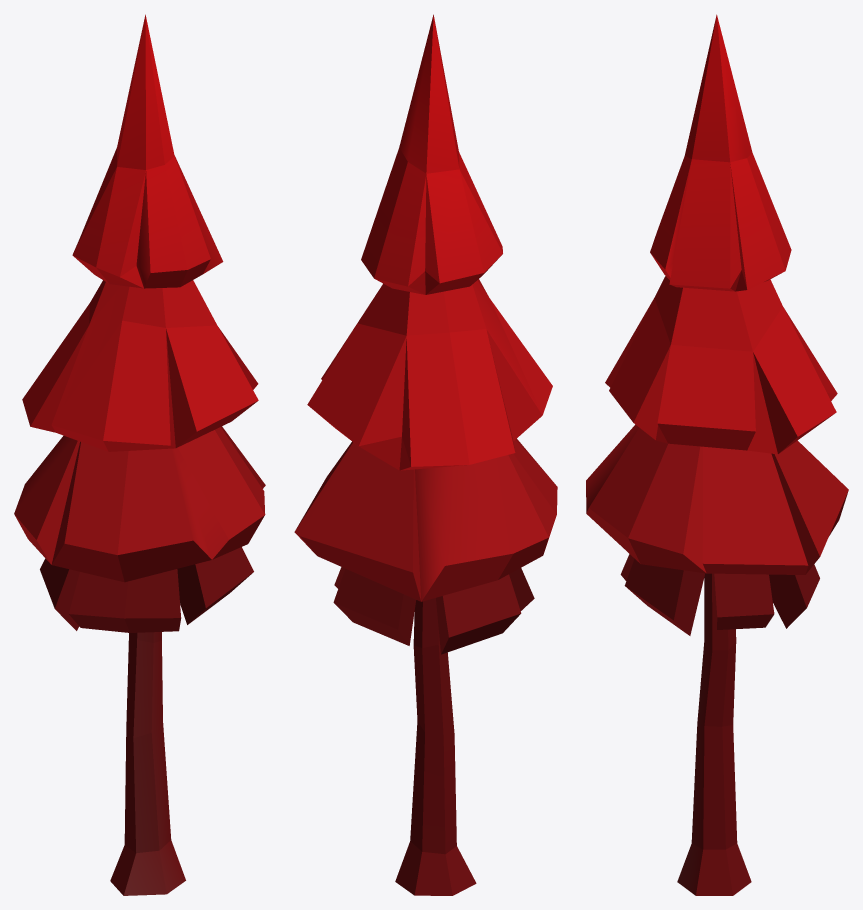
Rendered from tree_forest2.fbx.
3 renders of one model, left to right at view 1: azimuth 30°, elevation 25°; view 2: azimuth 150°, elevation 25°; view 3: azimuth 270°, elevation 25°, orthographic.
Parts seen in each view (by area): view 1: tree_forest2; view 2: tree_forest2; view 3: tree_forest2.
Boxes of the visible parts, x1,y1,x2,y2 form: tree_forest2: (14, 14, 265, 895); tree_forest2: (294, 14, 557, 895); tree_forest2: (586, 14, 848, 895).
Bounding box in the file's own units: 106 × 389 × 107.
